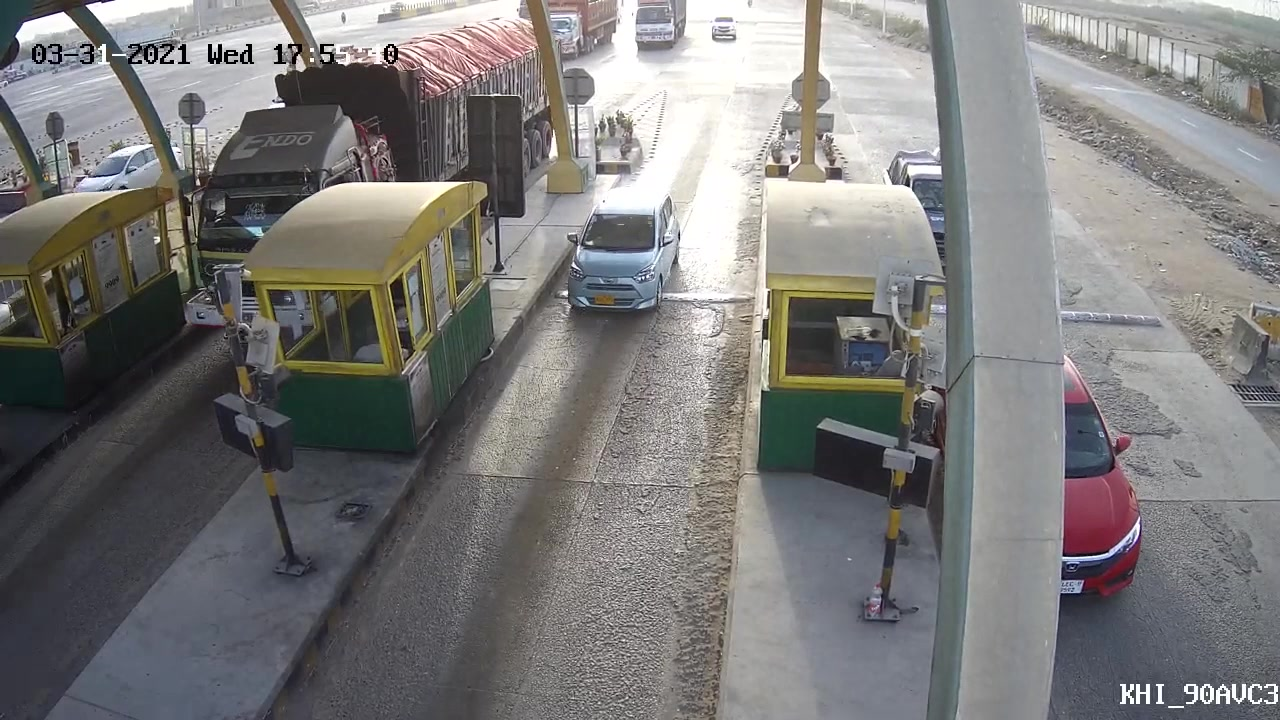F1: (548, 190, 693, 333)
